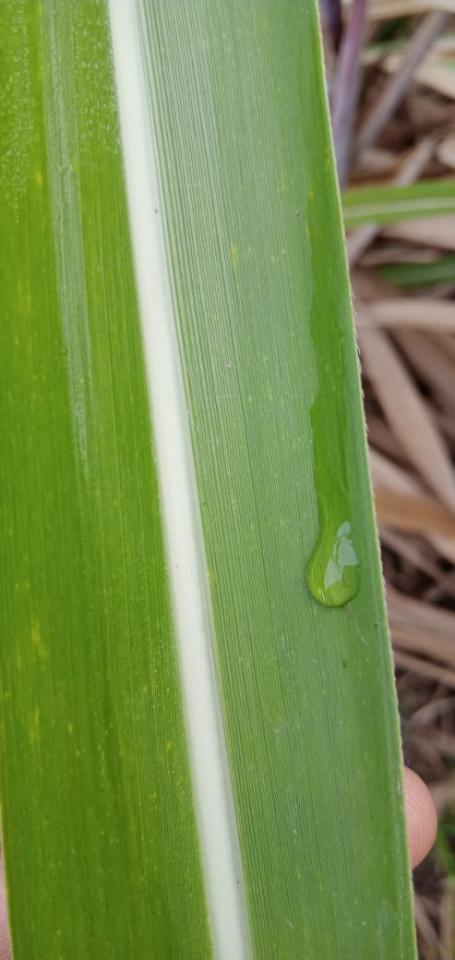Healthy: (0, 0, 421, 959)
